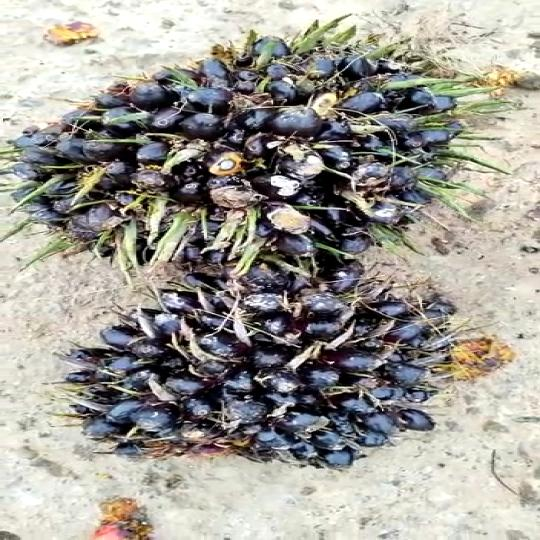mentah: (13, 16, 505, 278), (69, 289, 484, 482)
